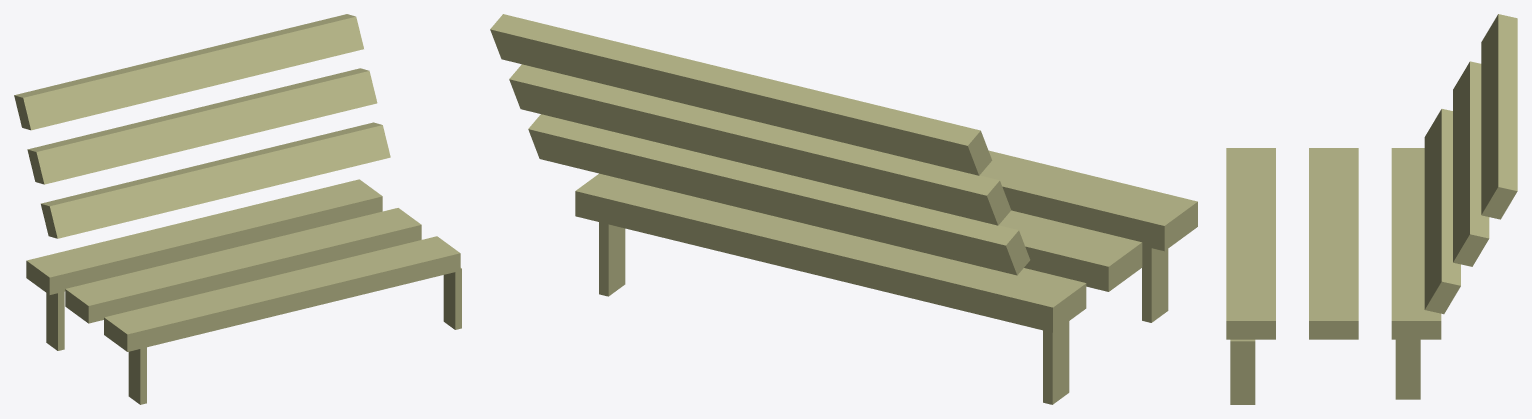
The model's file is Smashing Habbi.glb.
3 renders of one model, left to right at view 1: azimuth 30°, elevation 25°; view 2: azimuth 150°, elevation 25°; view 3: azimuth 270°, elevation 25°, orthographic. The views are drawn at different scales.
Visible parts, largest first — view 1: Mesh_Mesh_head_geo.001_lambert2SG.001; view 2: Mesh_Mesh_head_geo.001_lambert2SG.001; view 3: Mesh_Mesh_head_geo.001_lambert2SG.001.
Part boxes in pixels (x1,y1,x2,y2): Mesh_Mesh_head_geo.001_lambert2SG.001: [14, 14, 461, 404]; Mesh_Mesh_head_geo.001_lambert2SG.001: [490, 14, 1197, 404]; Mesh_Mesh_head_geo.001_lambert2SG.001: [1226, 14, 1517, 404].
Bounding box in the file's own units: 106 × 61 × 70.48.
